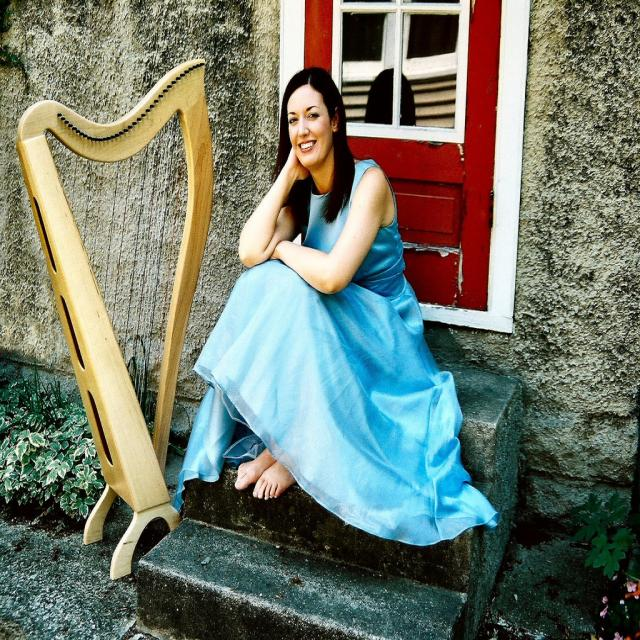harp: (16, 49, 218, 580)
